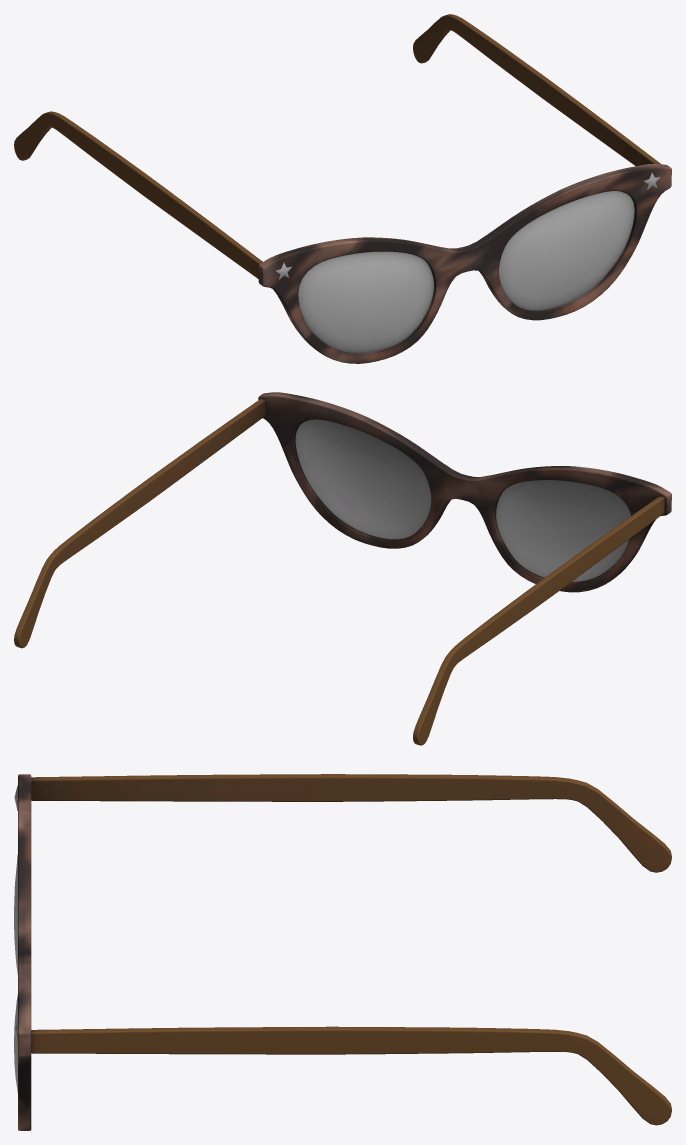
File: spec1.fbx
3 renders of one model, top to bottom at view 1: azimuth 30°, elevation 25°; view 2: azimuth 150°, elevation 25°; view 3: azimuth 270°, elevation 25°, orthographic. The views are drawn at different scales.
Visible parts, largest first — view 1: node_id62; view 2: node_id62; view 3: node_id62.
Boxes of the visible parts, x1,y1,x2,y2 form: node_id62: (14,14,671,363); node_id62: (14,392,671,745); node_id62: (14,774,671,1130).
Size of the model in its own units: 0.4779 by 0.1431 by 0.512.
1 material, 1 textured.
